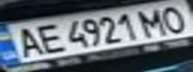1: (115, 10, 142, 40)
2: (96, 12, 121, 45)
4: (63, 17, 87, 50)
9: (78, 16, 103, 47)
A: (6, 25, 48, 58)
E: (30, 20, 66, 55)
M: (133, 6, 175, 36)
O: (154, 2, 193, 34)
